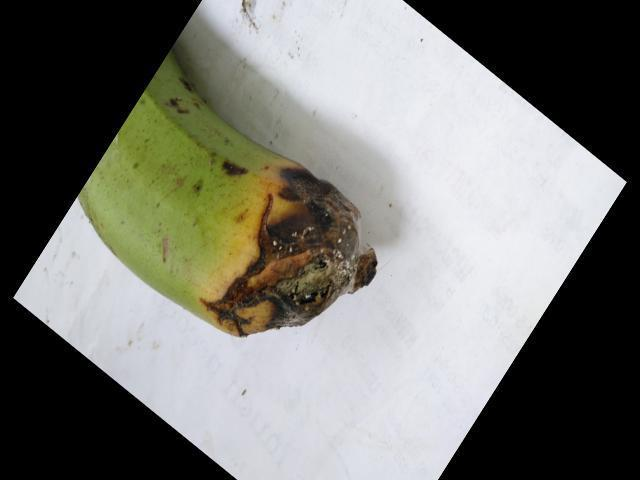rotten: (163, 143, 387, 361)
